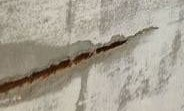Exposed reinforcement: (1, 38, 129, 95)
Spalling: (1, 26, 158, 108)
